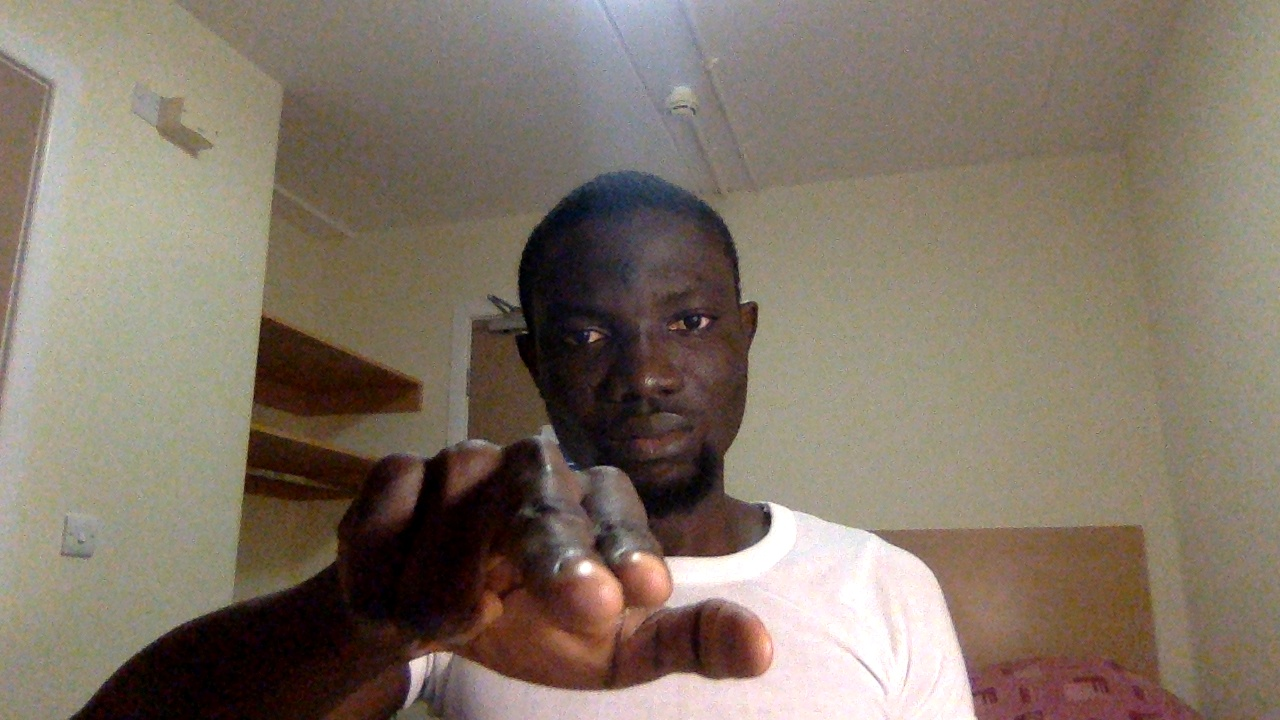No: (330, 432, 792, 696)
